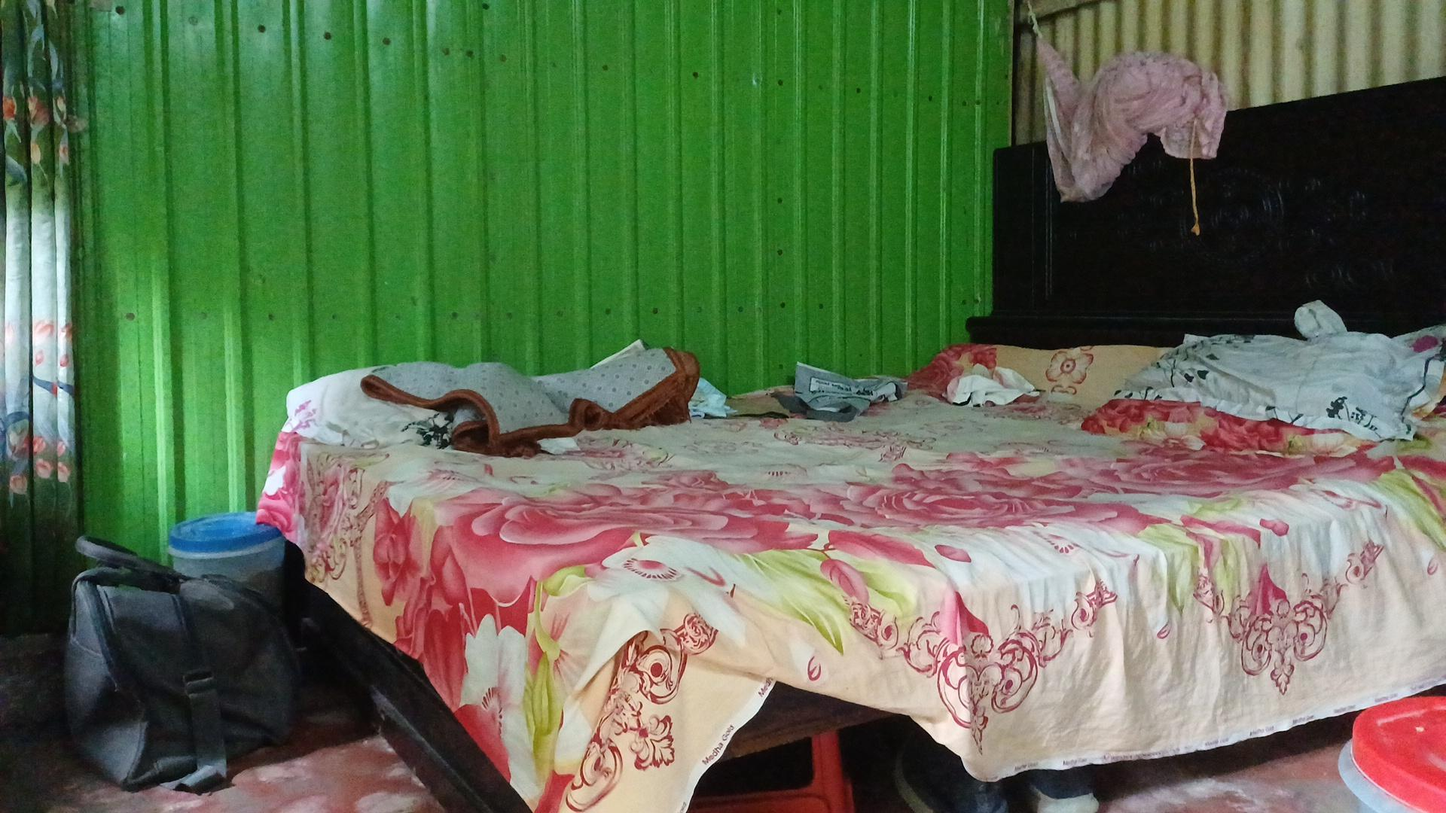Bag: (49, 533, 291, 802)
Pillow: (1124, 296, 1421, 485)
